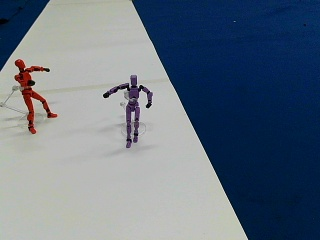pedestrian: (104, 76, 153, 145), (14, 58, 56, 133)
